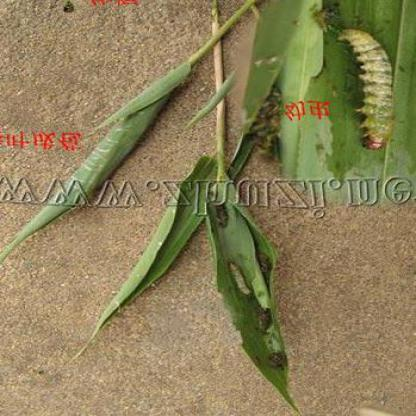leaf-folder: (328, 21, 406, 157), (206, 248, 268, 298)
